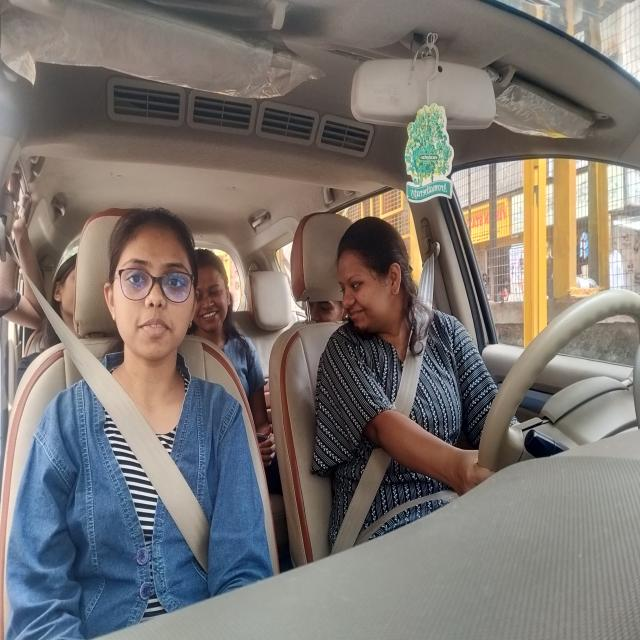LeftRight: (336, 222, 422, 339)
person: (104, 215, 203, 364), (197, 242, 233, 333), (43, 248, 82, 327), (308, 294, 342, 323)
